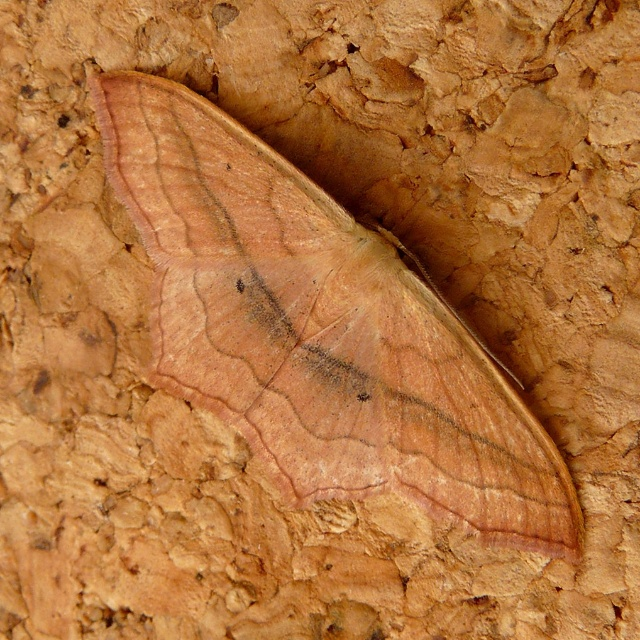Moths and butterflies: (84, 71, 592, 567)
